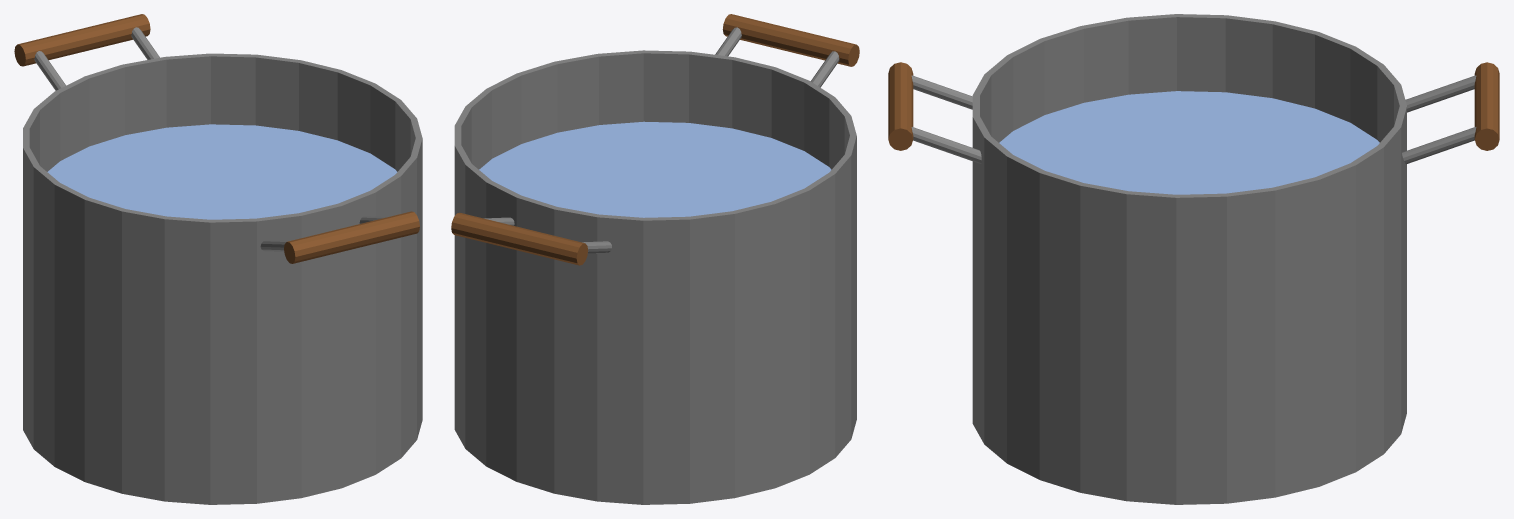
The model's file is serpa.fbx.
The picture shows the model from 3 angles, left to right: view 1: azimuth 30°, elevation 25°; view 2: azimuth 150°, elevation 25°; view 3: azimuth 270°, elevation 25°; orthographic projection. The views are drawn at different scales.
Visible parts, largest first — view 1: Cylinder.001; view 2: Cylinder.001; view 3: Cylinder.001.
Boxes of the visible parts, bbox=[...] form: Cylinder.001: bbox=[14, 14, 422, 504]; Cylinder.001: bbox=[451, 14, 859, 504]; Cylinder.001: bbox=[888, 14, 1499, 504].
Bounding box in the file's own units: 200 × 160 × 280.
